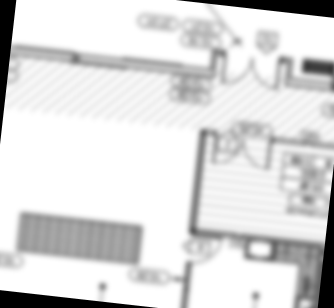door: (186, 231, 224, 268)
double door: (218, 49, 284, 92), (211, 130, 275, 173)
